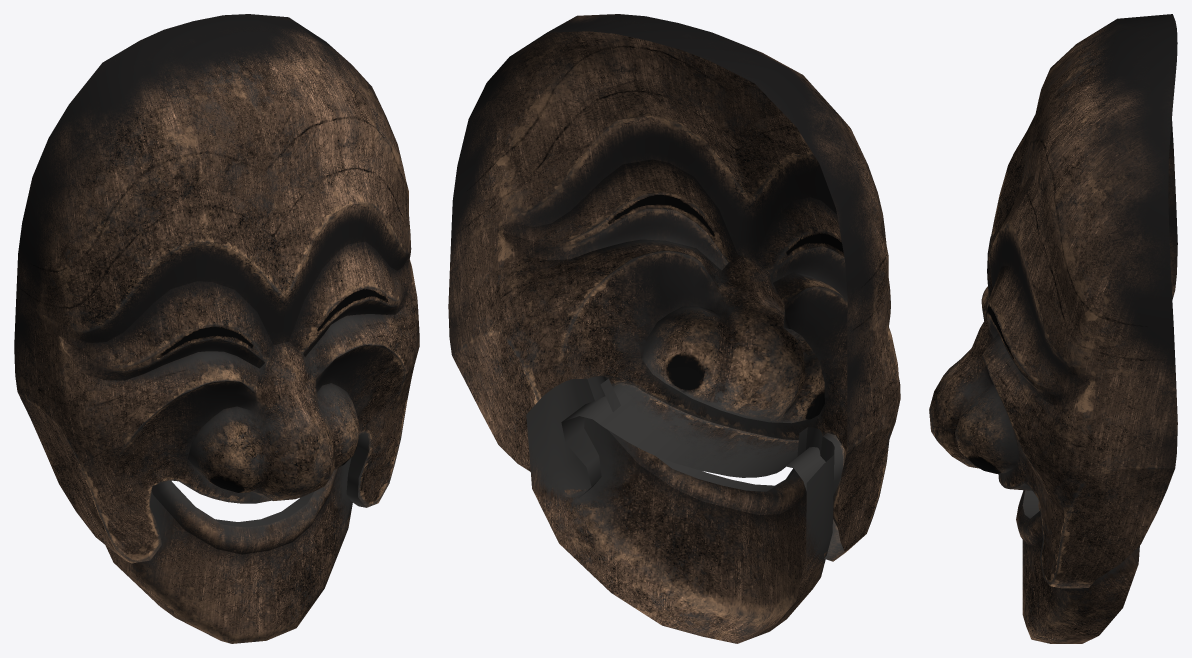
File: acc_01.fbx
3 views of the same model, side by side, from view 1: azimuth 30°, elevation 25°; view 2: azimuth 150°, elevation 25°; view 3: azimuth 270°, elevation 25° (orthographic). The views are drawn at different scales.
Visible parts, largest first — view 1: musa_acc_01; view 2: musa_acc_01; view 3: musa_acc_01.
Part boxes in pixels (left/top/right/bottom): musa_acc_01: left=14, top=14, right=419, bottom=643; musa_acc_01: left=448, top=14, right=900, bottom=643; musa_acc_01: left=929, top=14, right=1177, bottom=643.
Size of the model in its own units: 24.78 by 37.7 by 14.47.
1 material, 1 textured.
